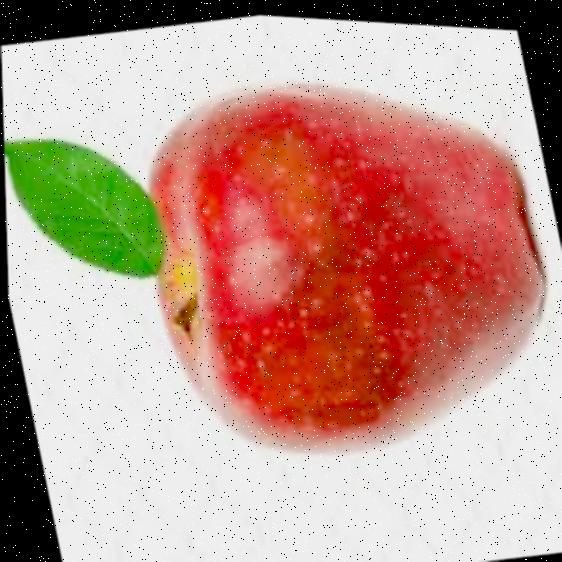HEALTHY: (85, 10, 562, 509)
